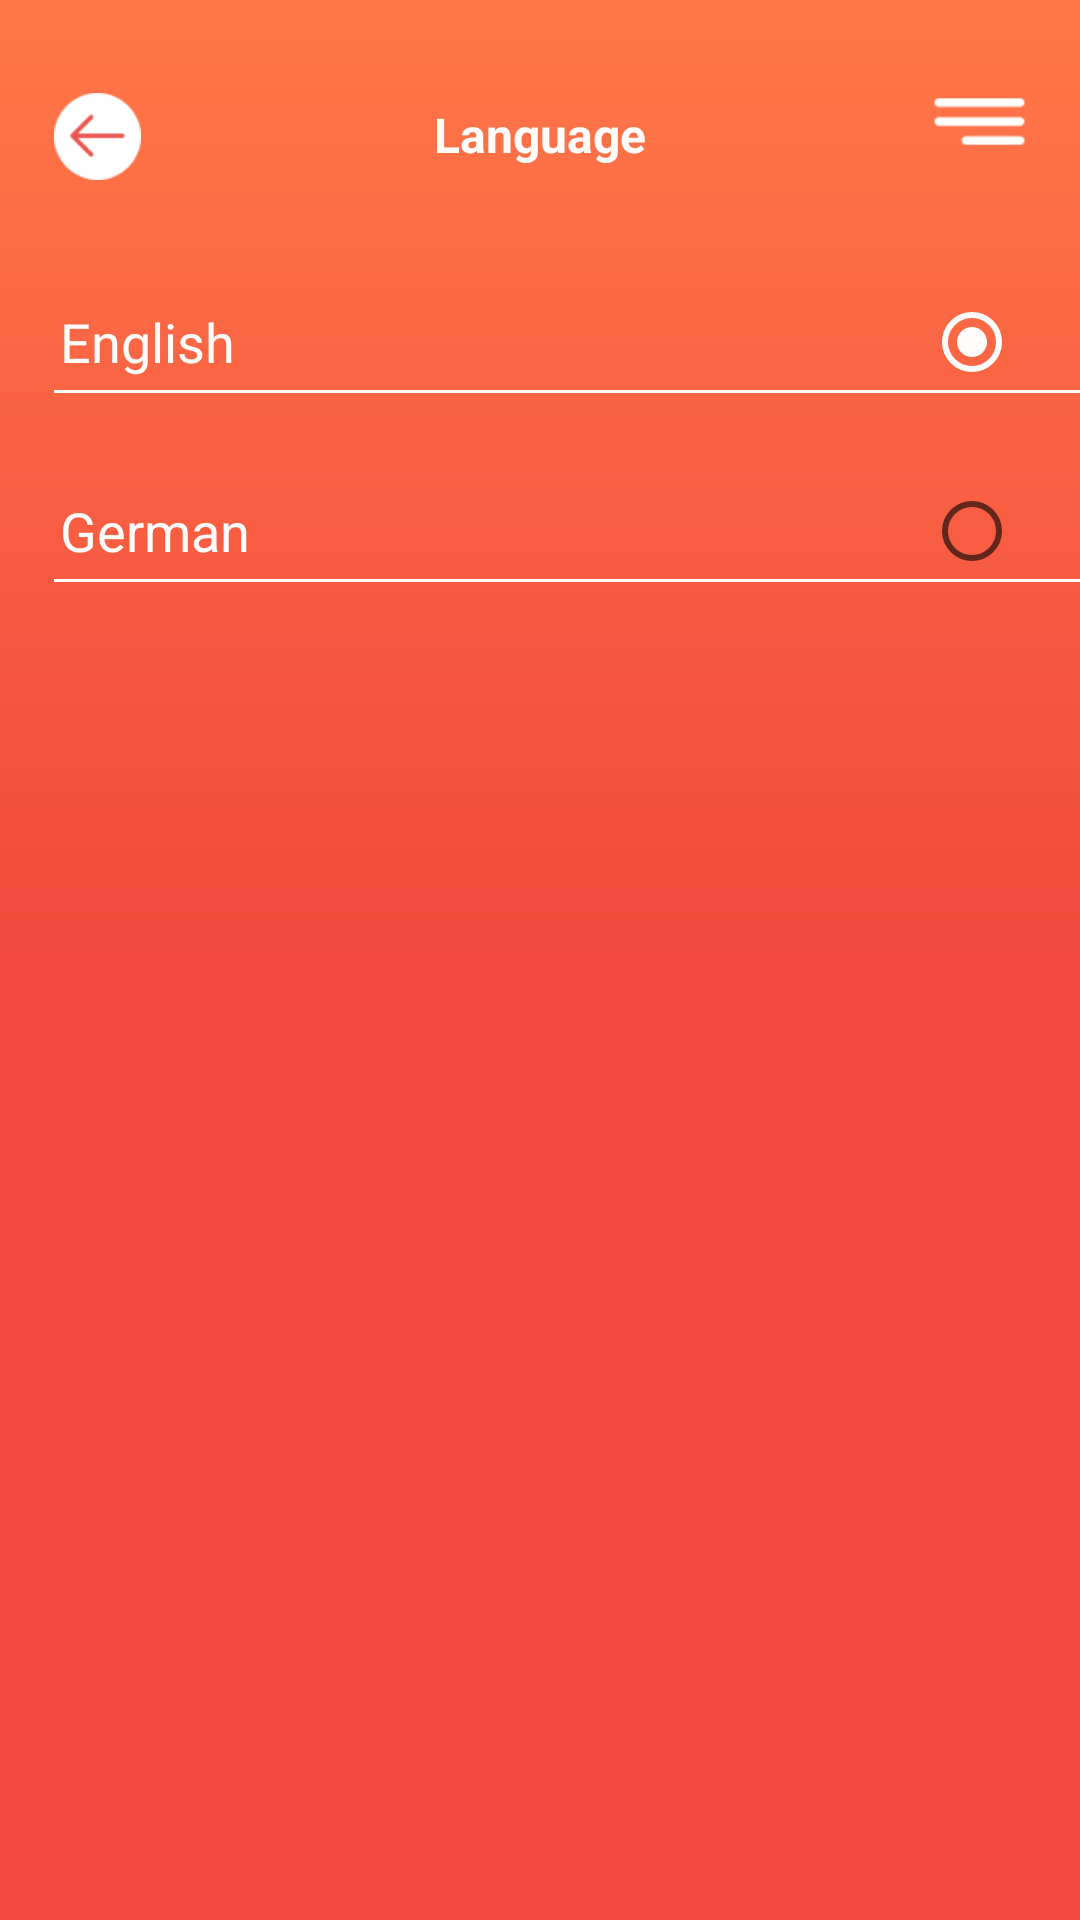

Where icons sit on this 1080×1920 app screen, as bbox=[x1, y1, x2, y2]:
back: bbox=[54, 93, 141, 180]
burgerwhite: bbox=[934, 98, 1025, 145]
